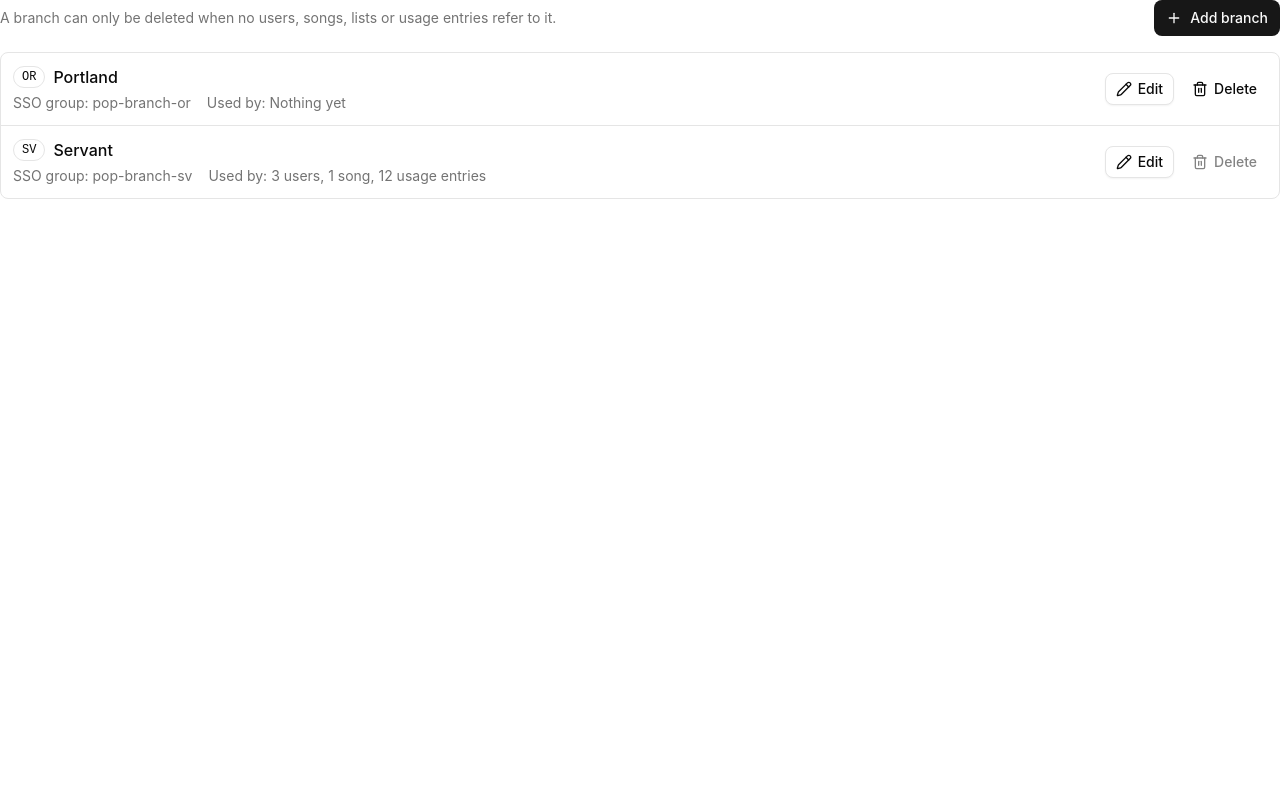
Test case: BranchesAdmin › edits a branch starting from its values
Click the button with aria-label "Edit Servant": (1139, 162) [1105,146,1174,178]
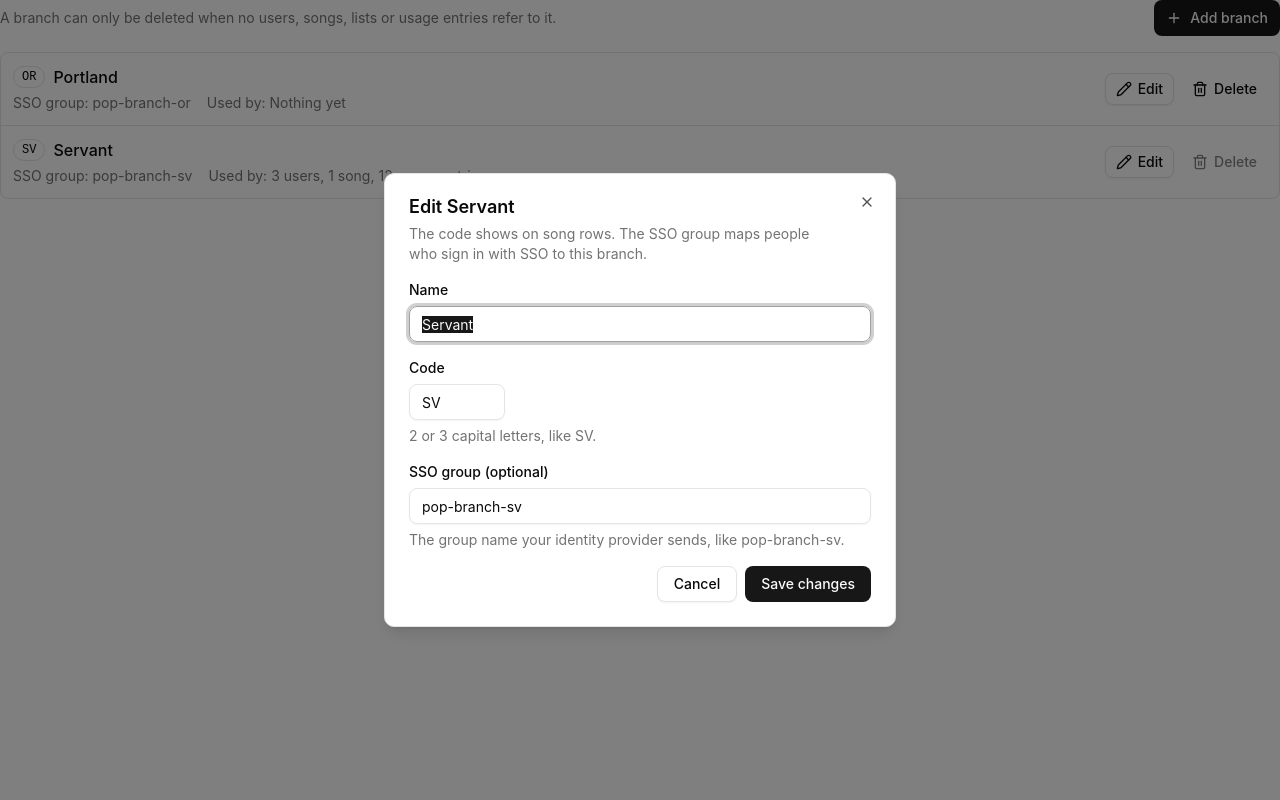
Expected: the field labelled "Code" holds "SV", [409,384,505,420]
Expected: the field labelled "SSO group (optional)" holds "pop-branch-sv"
Replace the text in the field labelled "SSO group (optional)" with "pop-sv": (640, 506) [409,488,871,524]
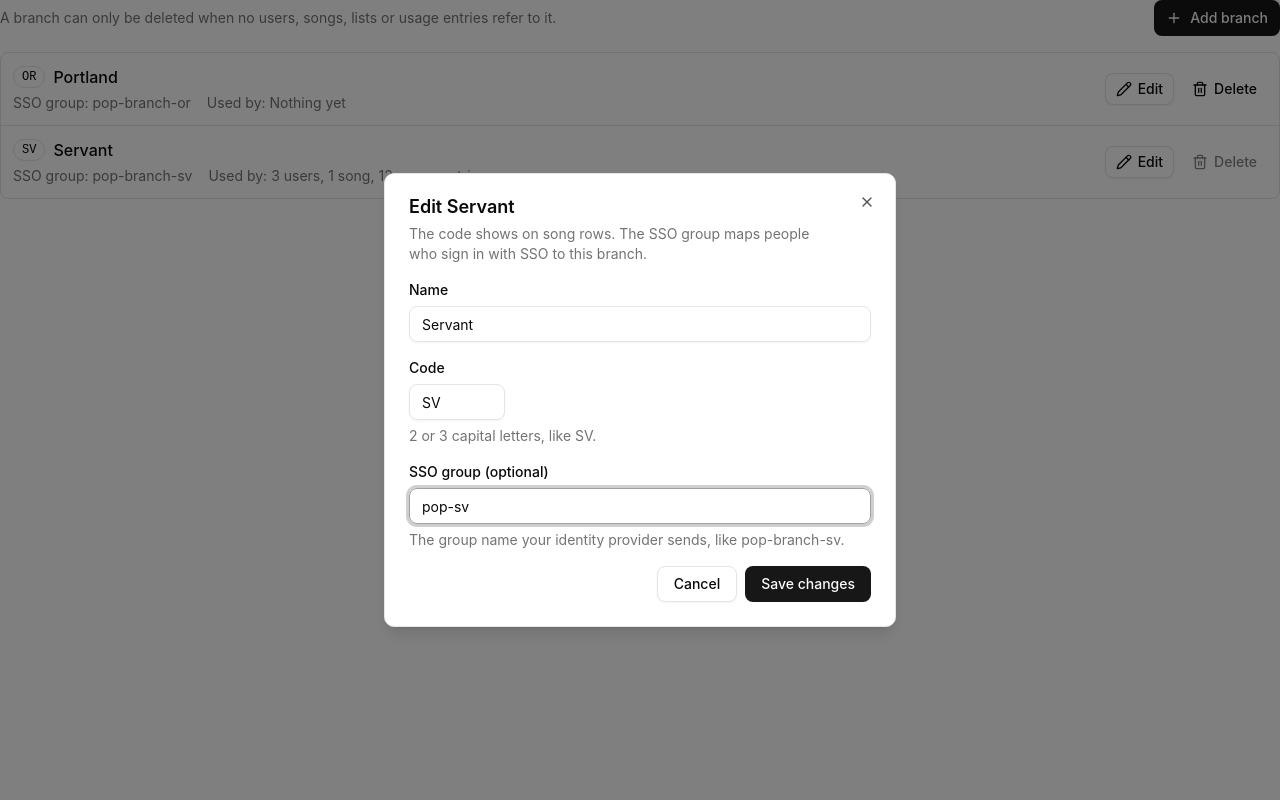
Click the button "Save changes": (808, 584) [745,566,871,602]
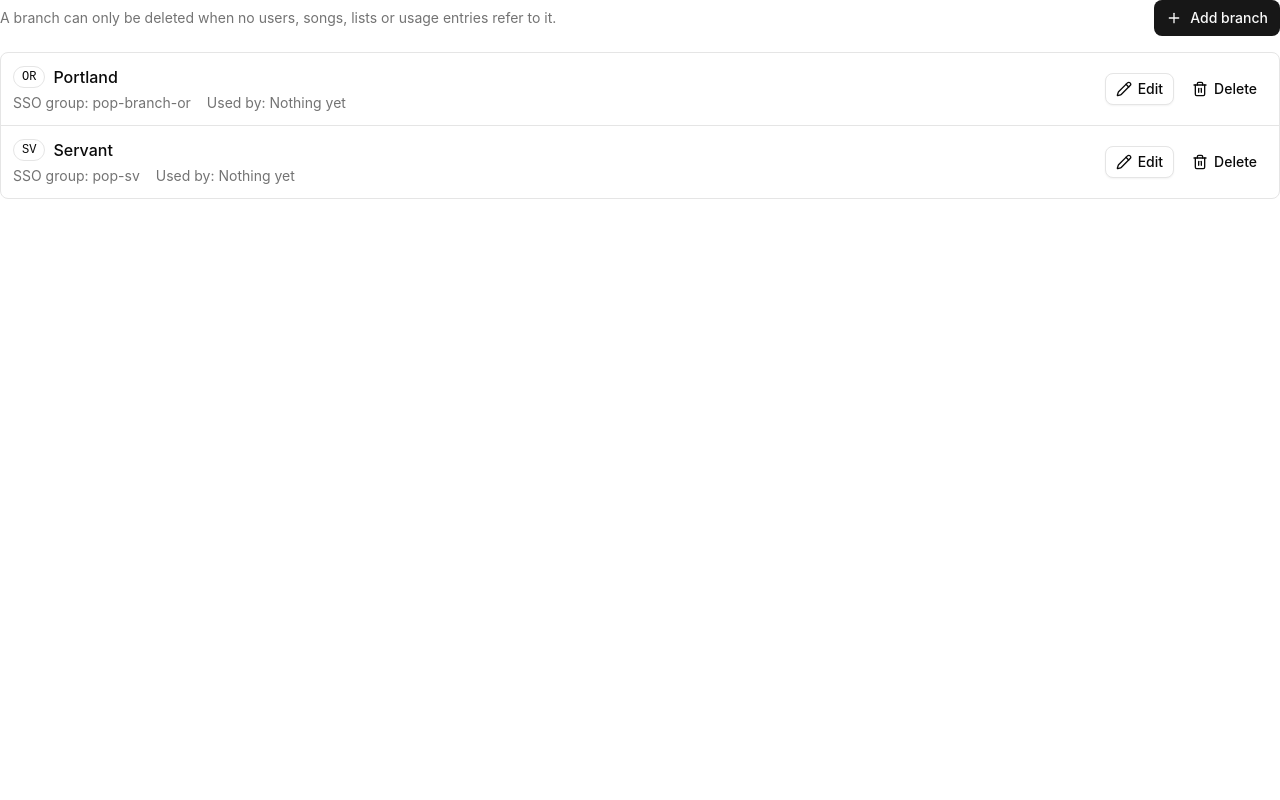
Expected: the text "pop-sv" is shown, [92,166,140,186]
